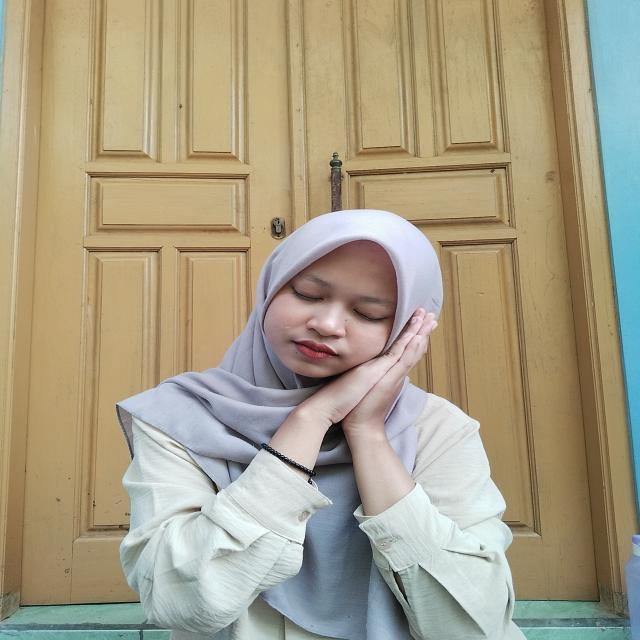tidur: (220, 304, 450, 486)
